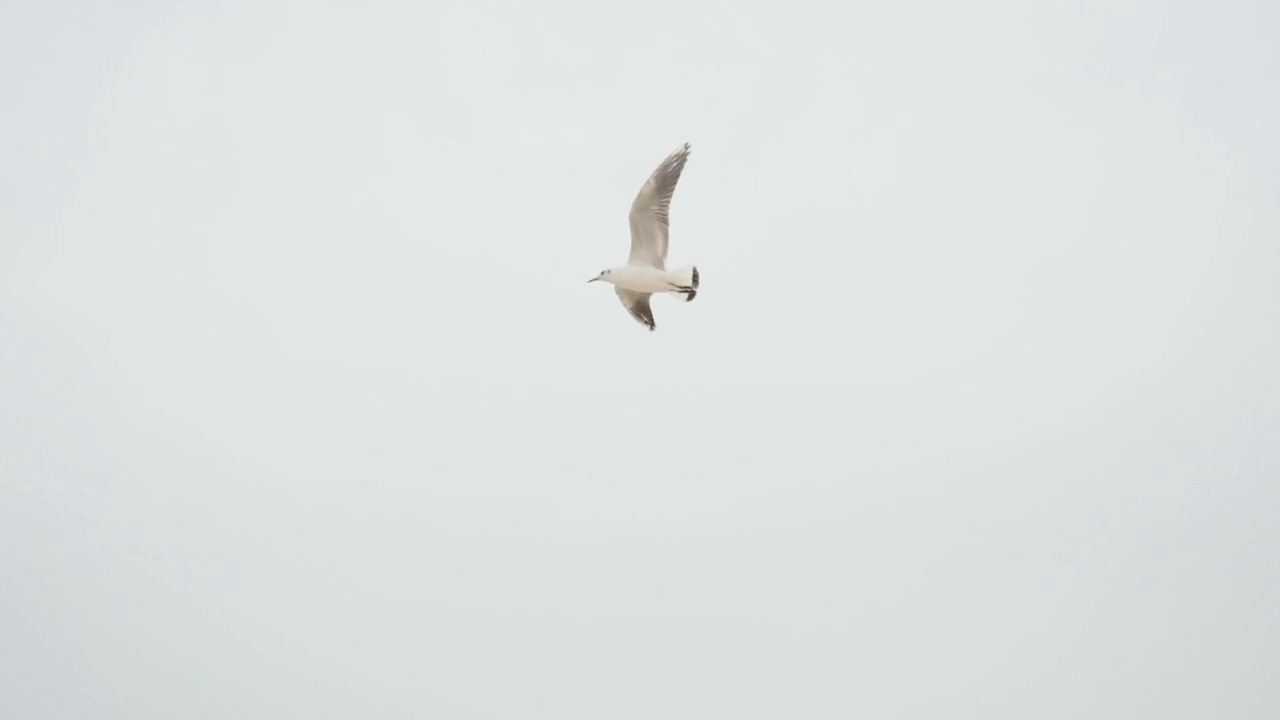bird: (591, 138, 700, 331)
